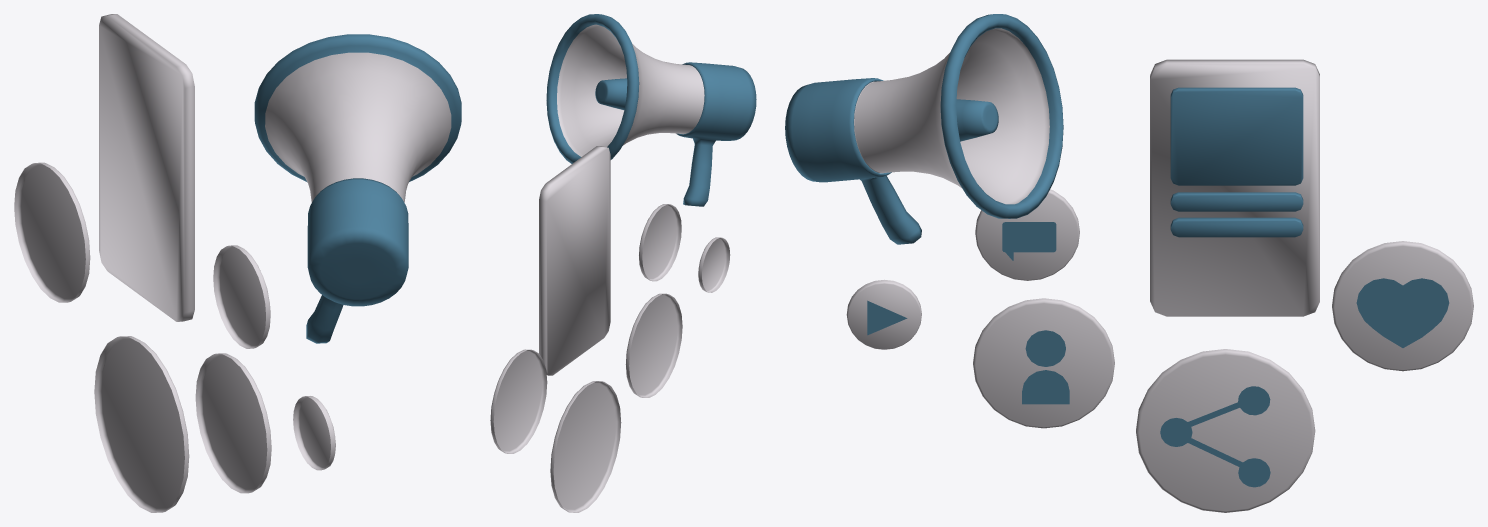
The model's file is Marketing.gltf.
3 views of the same model, side by side, from view 1: azimuth 30°, elevation 25°; view 2: azimuth 150°, elevation 25°; view 3: azimuth 270°, elevation 25° (orthographic). The views are drawn at different scales.
Parts seen in each view (by area): view 1: Plane.005; view 2: Plane.005; view 3: Plane.005.
Boxes of the visible parts, left/top/right/bottom form: Plane.005: left=14, top=14, right=461, bottom=512; Plane.005: left=490, top=14, right=756, bottom=512; Plane.005: left=785, top=14, right=1473, bottom=512.
Size of the model in its own units: 0.0726 by 0.1755 by 0.2046.
